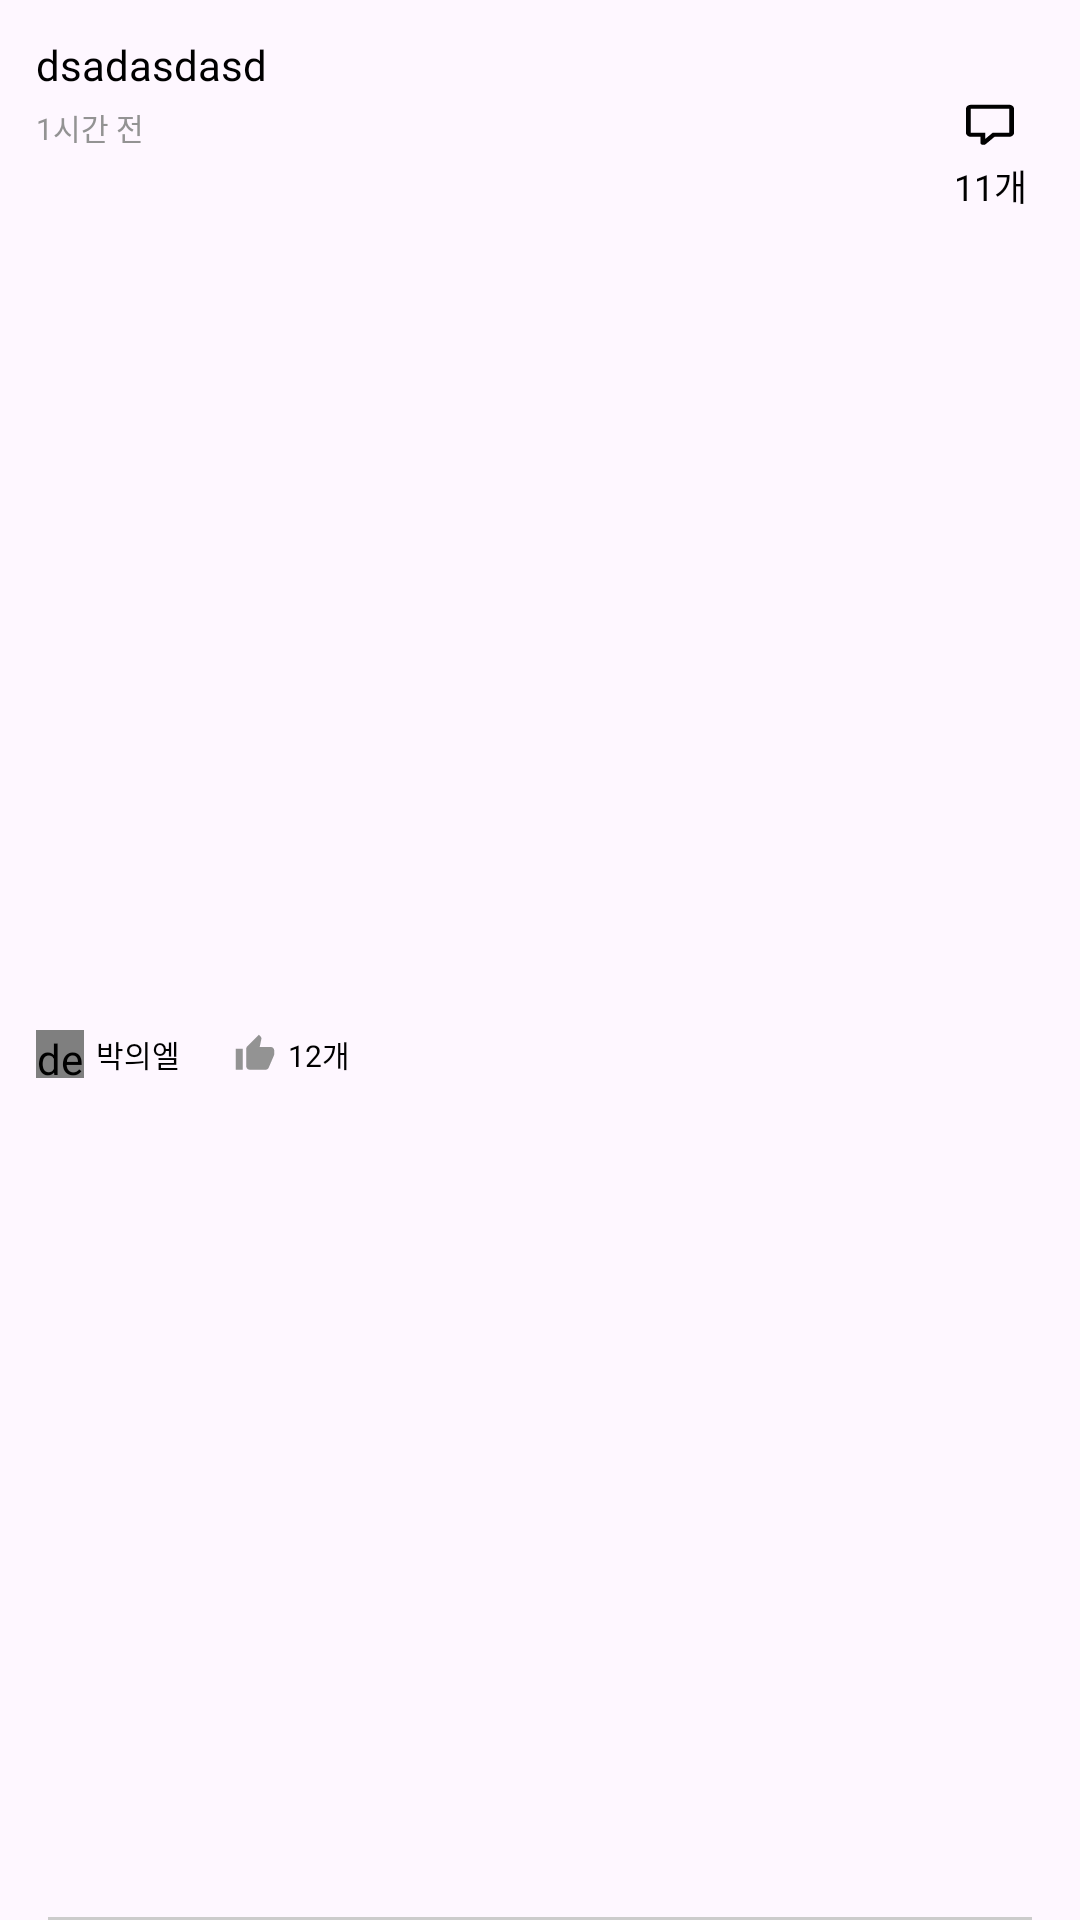

Screen size 1080*1920. Icon name, then its box in pixels as (x1, y1, x2, y2):
chat: (966, 104, 1014, 145)
feed like: (235, 1035, 275, 1070)
